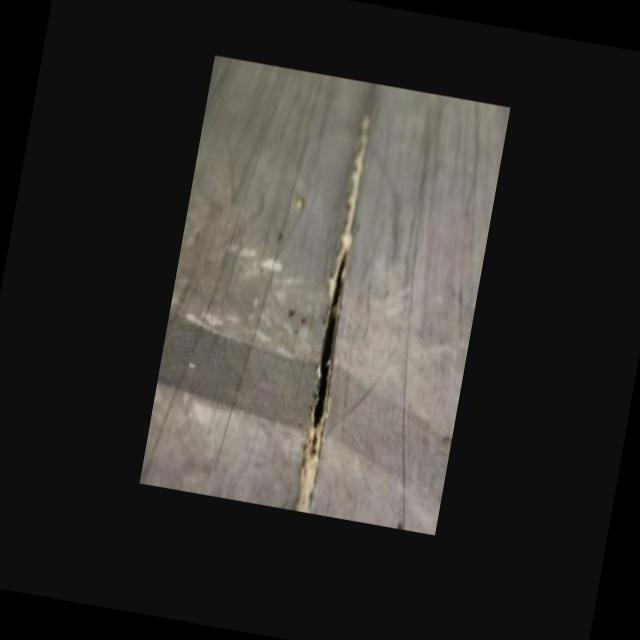Tear: (305, 244, 352, 458)
